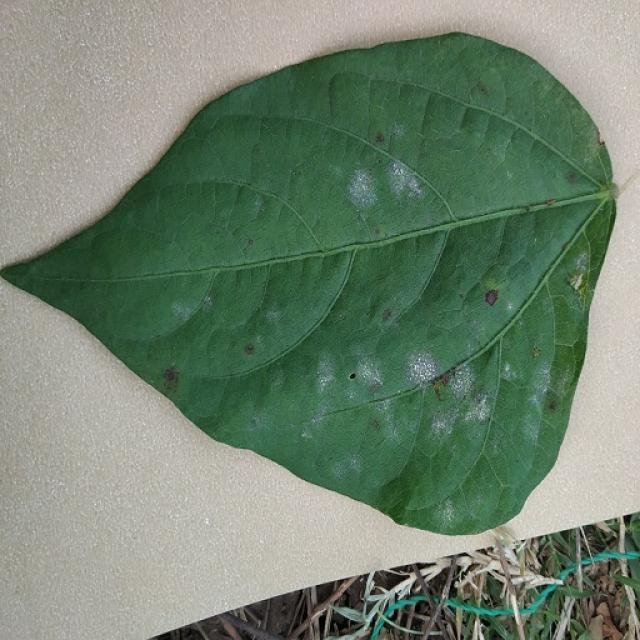Blackgram: (4, 35, 614, 532)
Powdery_Mildew: (344, 161, 381, 241), (526, 362, 554, 424), (386, 160, 424, 202), (404, 351, 438, 388), (171, 294, 206, 325), (448, 363, 477, 400), (356, 356, 384, 392), (464, 390, 492, 426), (314, 356, 338, 394), (305, 407, 331, 433), (430, 410, 453, 435), (329, 459, 352, 482), (162, 366, 180, 393), (501, 359, 521, 382), (439, 502, 458, 524), (251, 409, 270, 431), (573, 251, 589, 273), (390, 123, 406, 140), (265, 308, 280, 324), (202, 295, 213, 310), (506, 301, 515, 312)
